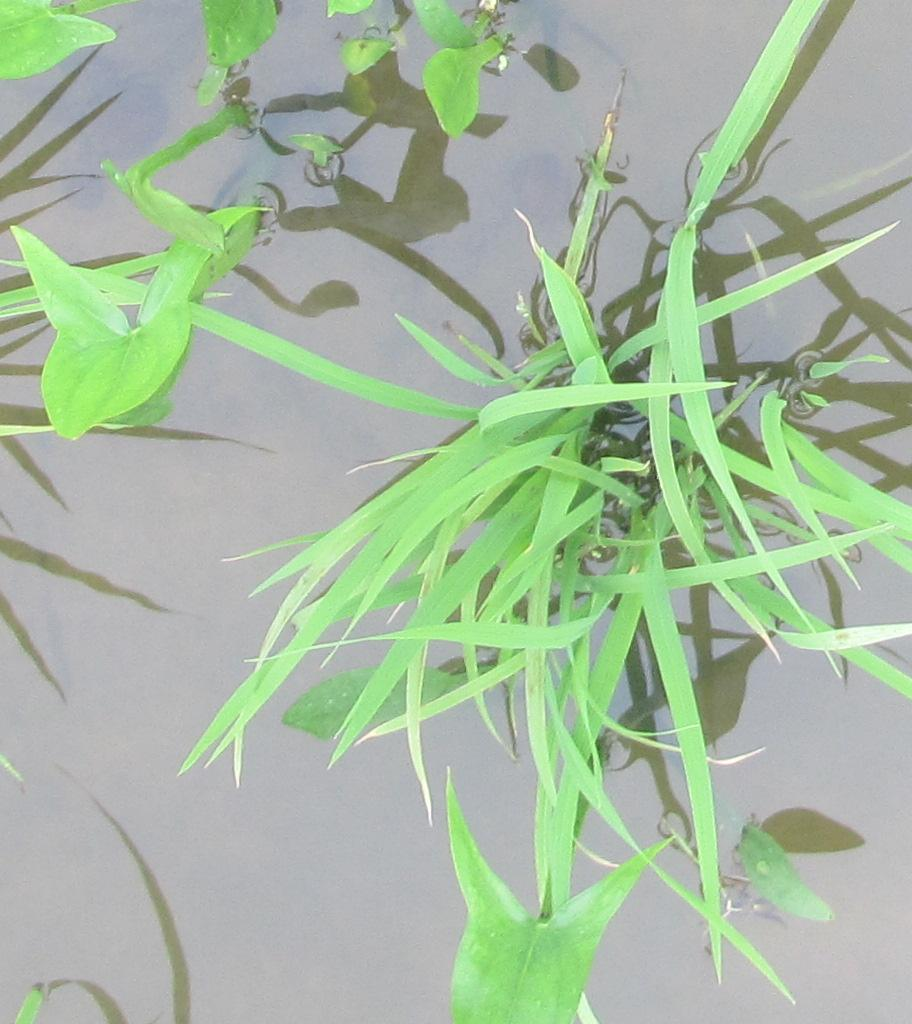Weed: (14, 210, 219, 439), (208, 3, 511, 133), (444, 853, 638, 1014)
